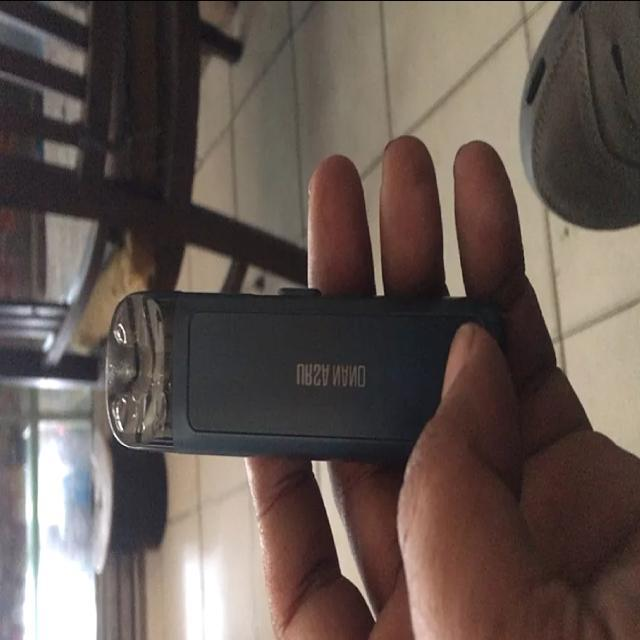Hazard: (105, 288, 540, 457)
